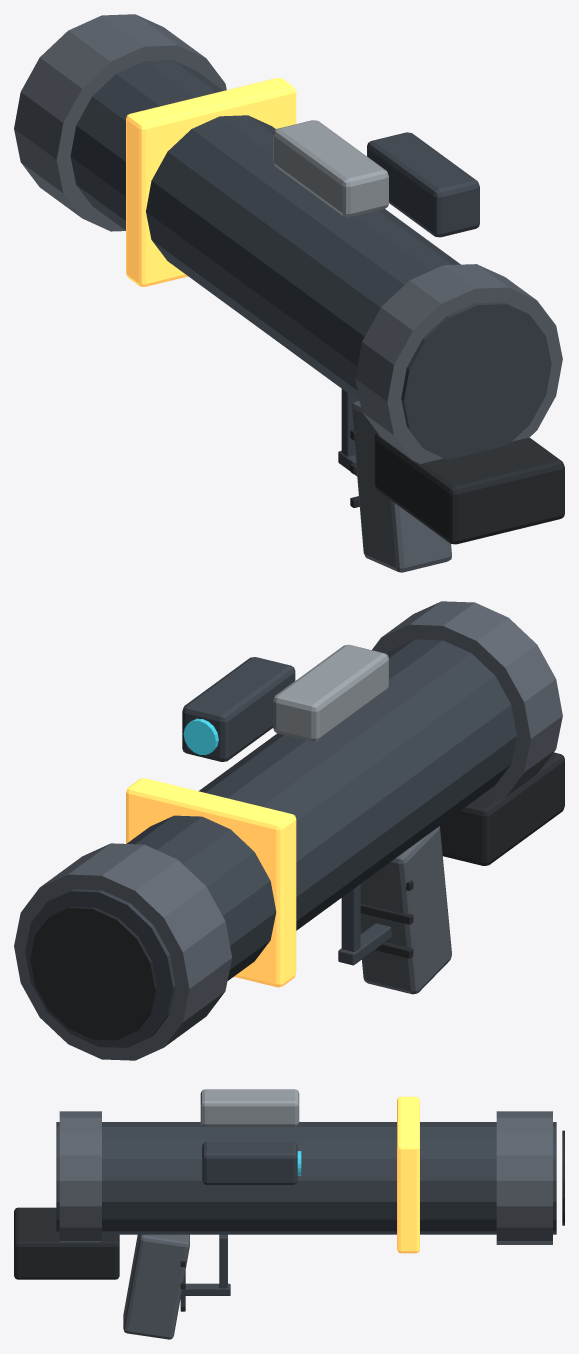
Rendered from lanzacohetes.glb.
3 views of the same model, one above another, from view 1: azimuth 30°, elevation 25°; view 2: azimuth 150°, elevation 25°; view 3: azimuth 270°, elevation 25° (orthographic). The views are drawn at different scales.
Visible parts, largest first — view 1: Arma_lanzacohetes; view 2: Arma_lanzacohetes; view 3: Arma_lanzacohetes.
Part boxes in pixels (x1=…): Arma_lanzacohetes: x1=14, y1=14, x2=564, y2=572; Arma_lanzacohetes: x1=14, y1=601, x2=564, y2=1060; Arma_lanzacohetes: x1=14, y1=1089, x2=564, y2=1339.
Size of the model in its own units: 0.44 by 0.7427 by 1.56.
